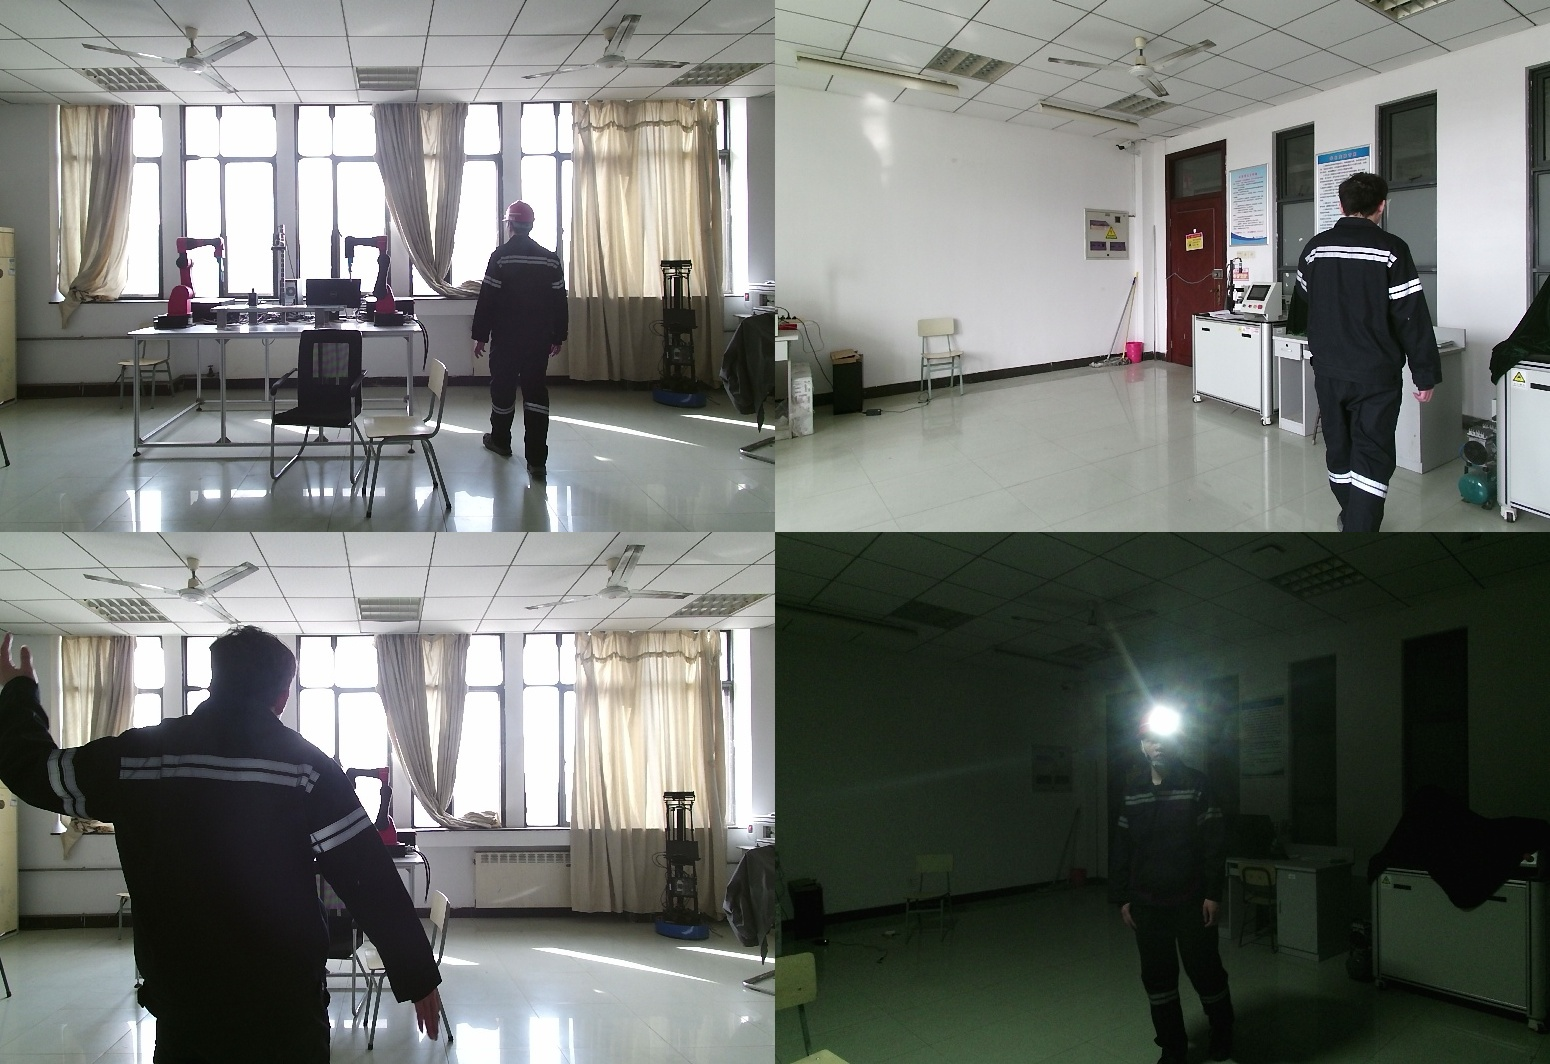person: (1, 629, 451, 1064), (1296, 173, 1462, 532), (1116, 707, 1246, 1064), (477, 201, 579, 488)
